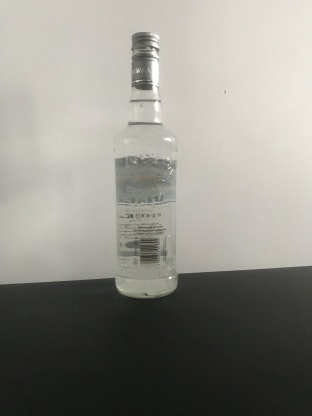nakretka: (129, 30, 161, 90)
